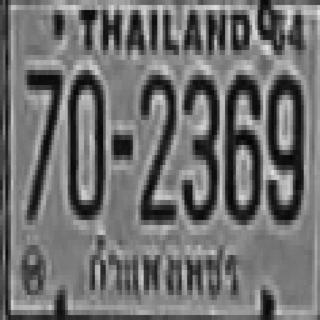N00: (66, 65, 105, 215)
N02: (138, 70, 174, 220)
N03: (179, 70, 217, 220)
N06: (224, 70, 259, 220)
N07: (24, 68, 60, 218)
N09: (266, 70, 301, 220)
P16: (83, 231, 246, 306)
